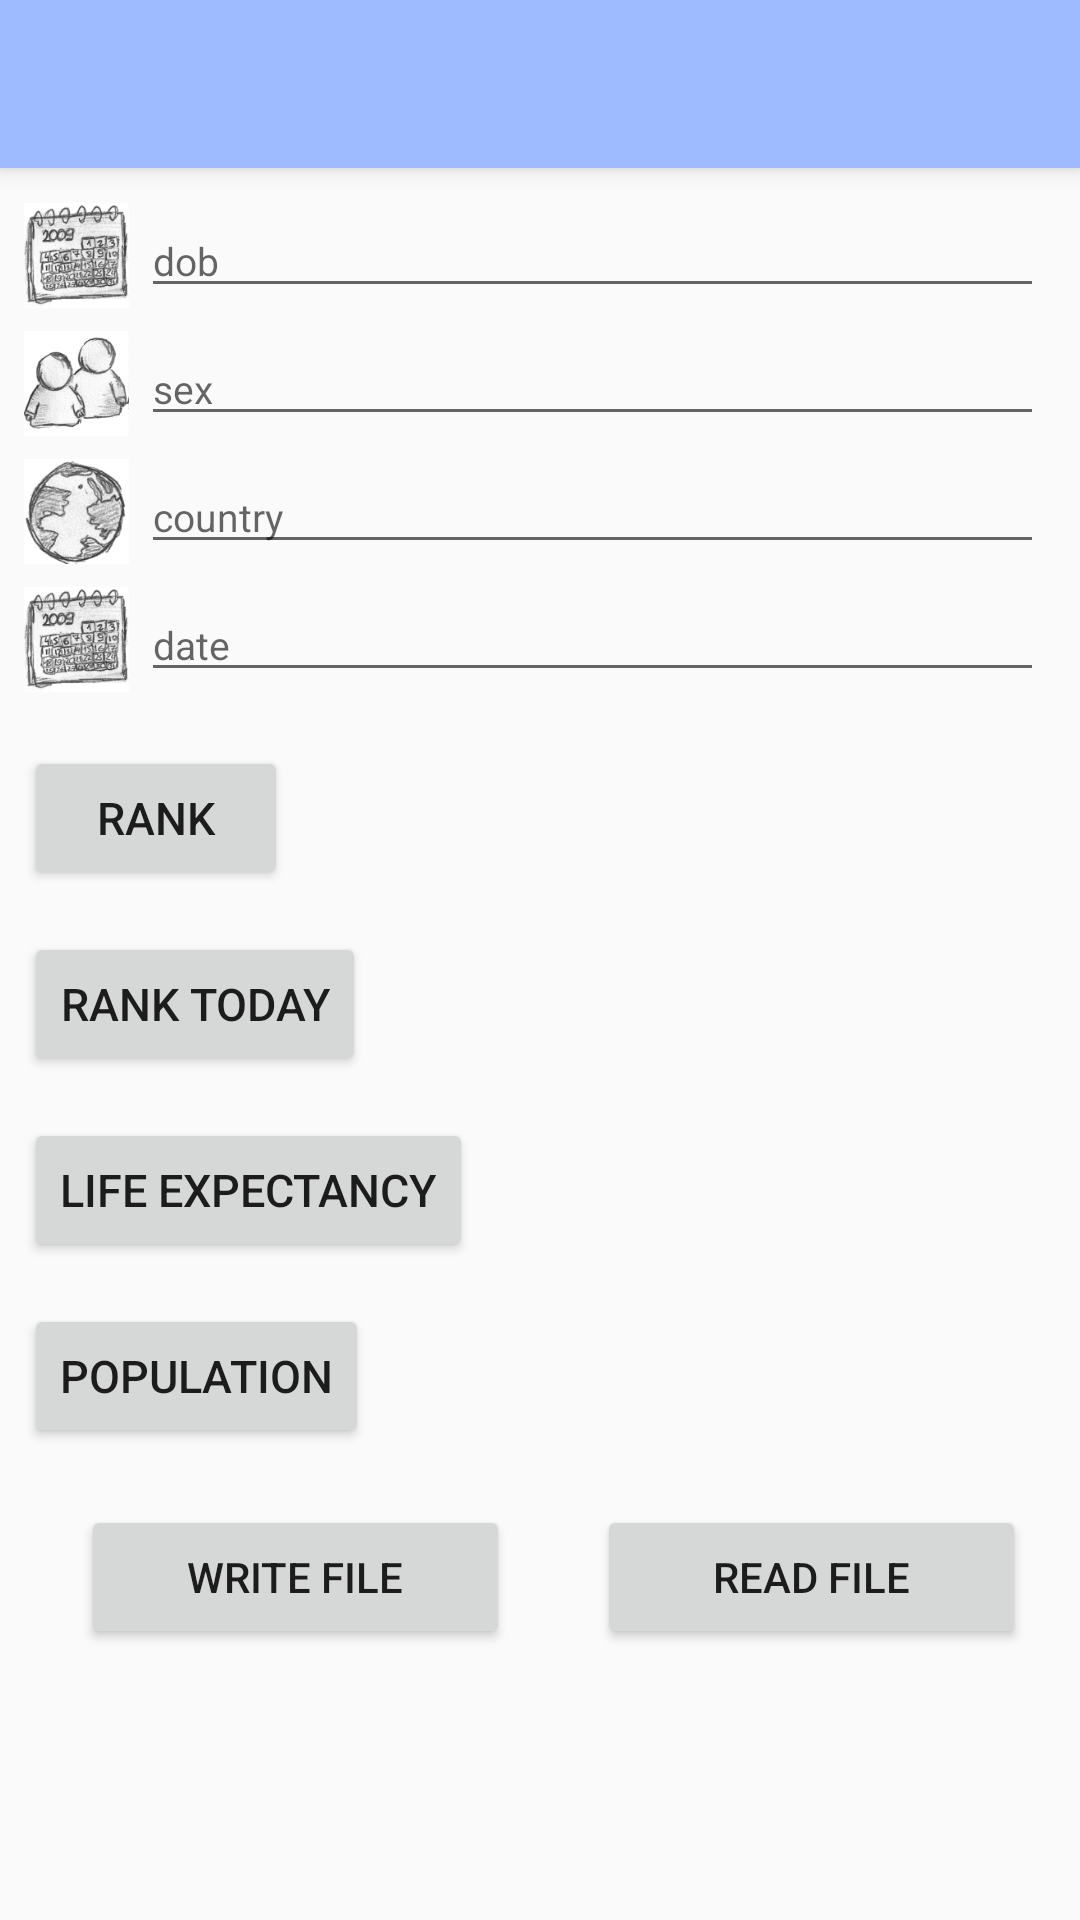

Screen size 1080x1920. Icon name, then its box in pixels as (x1, y1, x2, y2):
calendar: (24, 205, 128, 305), (24, 589, 128, 689)
earth: (26, 461, 125, 564)
users: (24, 337, 129, 429)
